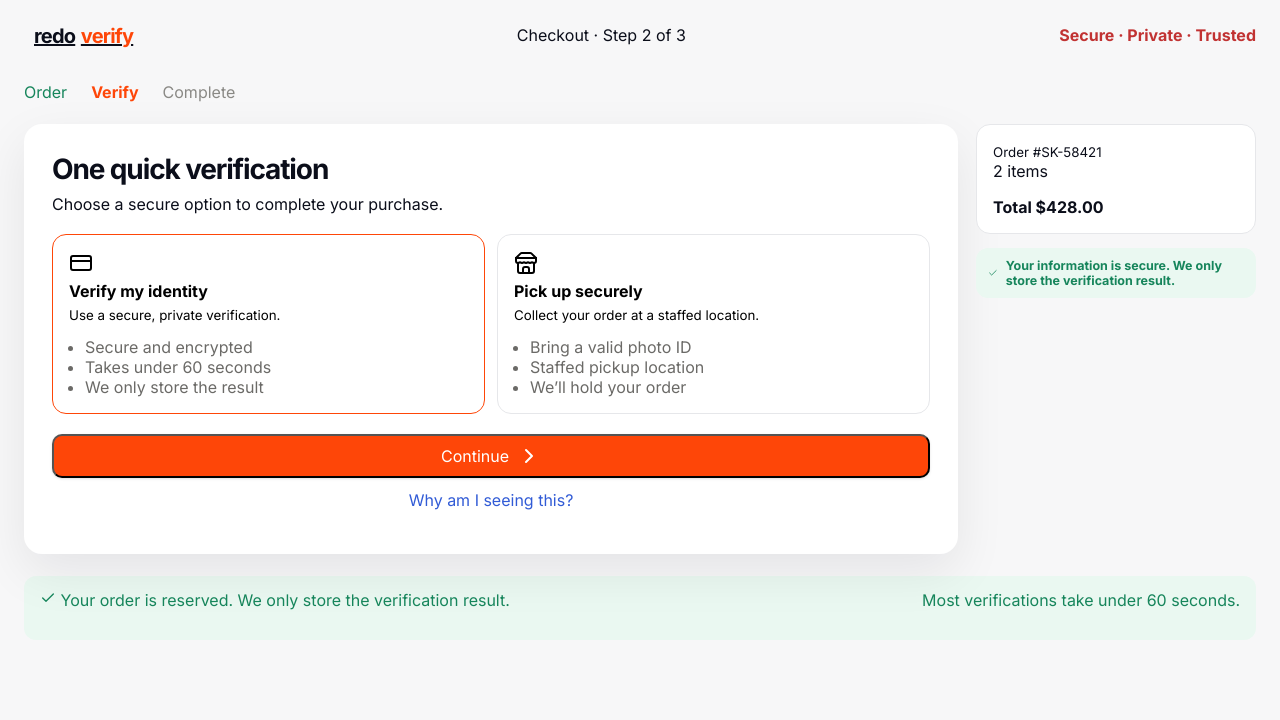
Test: interview demo › completes the customer verification experience without a fraud label
This screenshot has width=1280, height=720.
Check: the heading "One quick verification" is shown, box [52,152,328,186]
Step 1. Click the button "Verify my identity" → (268, 324), box [52,234,485,414]
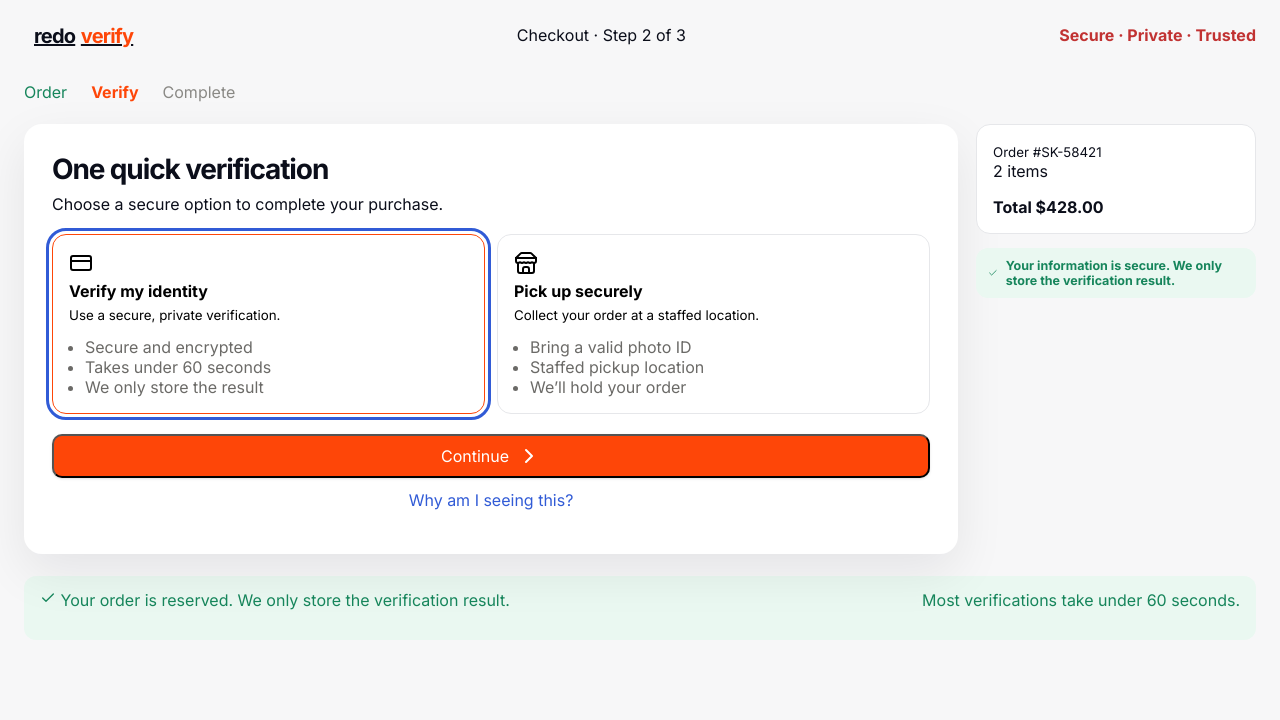
Step 2. Click the button "Continue" → (491, 456), box [52,434,930,478]
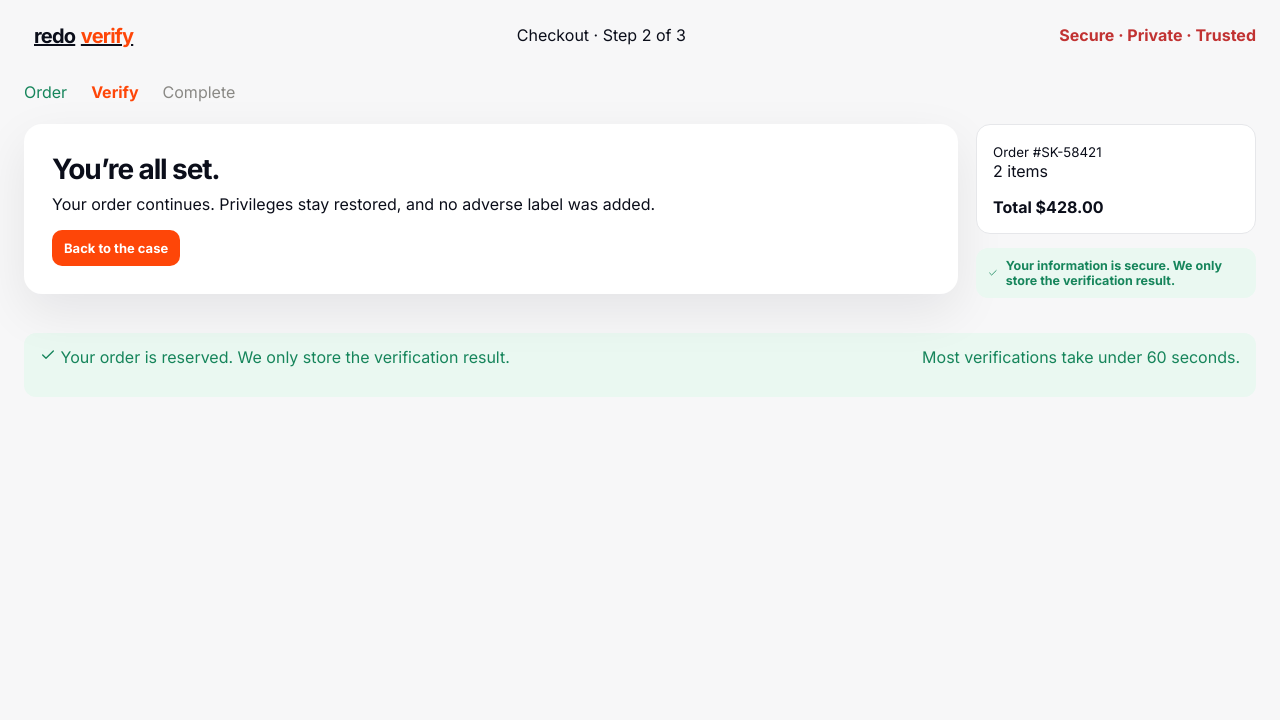
Check: the heading "You’re all set." is shown, box [52,152,220,186]
